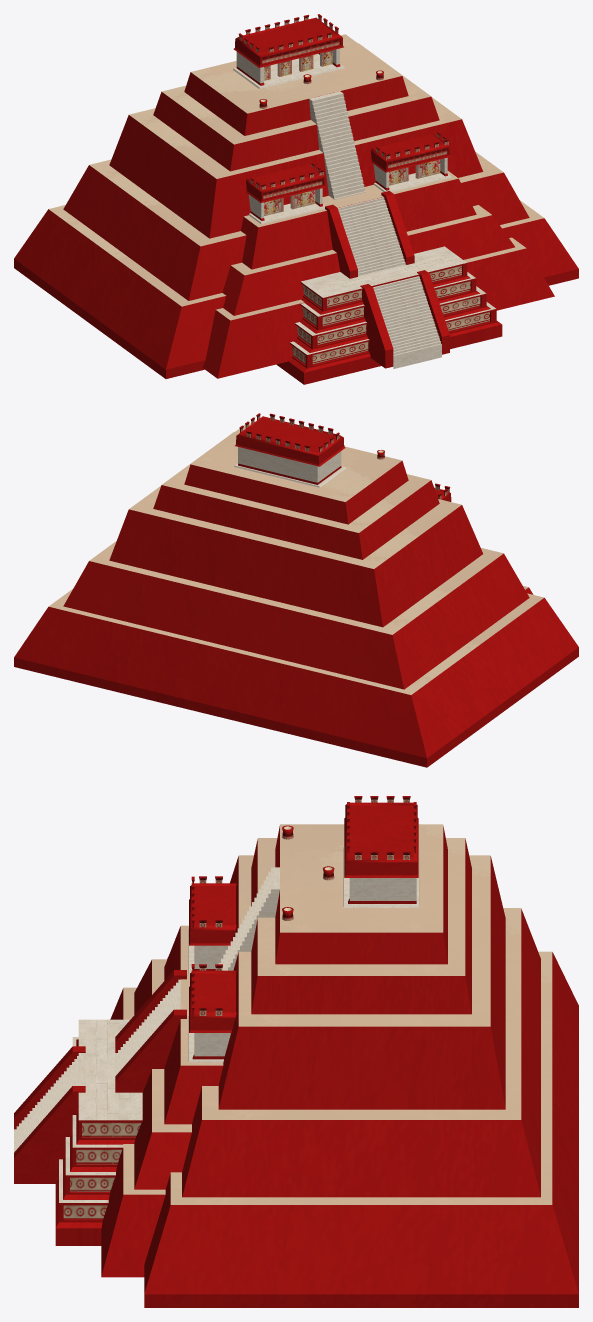
Rendered from wonder_sun.dae.
3 renders of one model, top to bottom at view 1: azimuth 30°, elevation 25°; view 2: azimuth 150°, elevation 25°; view 3: azimuth 270°, elevation 25°, orthographic. The views are drawn at different scales.
Parts seen in each view (by area): view 1: sun.001; view 2: sun.001; view 3: sun.001.
Part boxes in pixels (x1=…): sun.001: x1=14, y1=14, x2=578, y2=384; sun.001: x1=14, y1=413, x2=578, y2=767; sun.001: x1=14, y1=796, x2=578, y2=1307.
Bounding box in the file's own units: 71.14 × 58.86 × 40.49.
